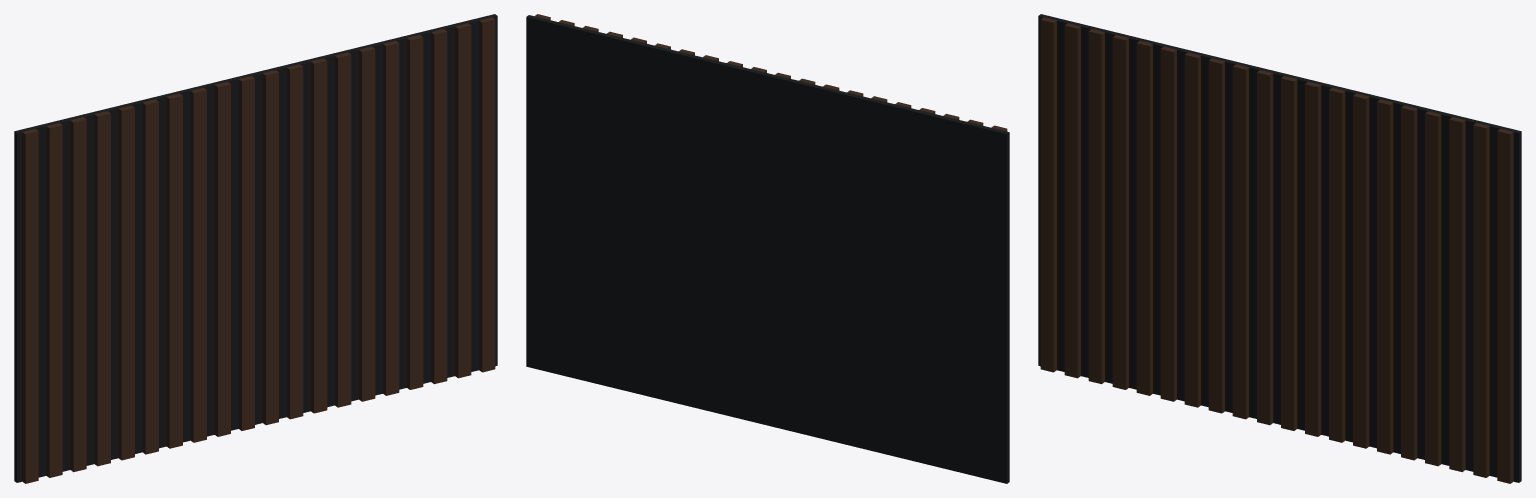
Rendered from wall_slats.glb.
The picture shows the model from 3 angles, left to right: view 1: azimuth 30°, elevation 25°; view 2: azimuth 150°, elevation 25°; view 3: azimuth 330°, elevation 25°; orthographic projection.
Parts seen in each view (by area): view 1: Fondo, Listón.006, Listón.002, Listón.005, Listón.013, Listón.014, Listón.010, Listón.003, Listón.007, Listón.008, Listón.012, Listón.015 (+9 smaller); view 2: Fondo; view 3: Fondo, Listón, Listón.013, Listón.003, Listón.005, Listón.007, Listón.011, Listón.018, Listón.002, Listón.006, Listón.009, Listón.014 (+9 smaller).
Boxes of the visible parts, x1=… form: Fondo: x1=14, y1=14, x2=497, y2=482; Listón.006: x1=166, y1=93, x2=182, y2=448; Listón.002: x1=70, y1=117, x2=86, y2=472; Listón.005: x1=142, y1=99, x2=158, y2=454; Listón.013: x1=335, y1=52, x2=351, y2=407; Listón.014: x1=359, y1=46, x2=375, y2=401; Listón.010: x1=262, y1=70, x2=278, y2=425; Listón.003: x1=94, y1=111, x2=110, y2=466; Listón.007: x1=190, y1=87, x2=206, y2=442; Listón.008: x1=214, y1=82, x2=230, y2=436; Listón.012: x1=311, y1=58, x2=327, y2=413; Listón.015: x1=383, y1=41, x2=399, y2=395; Fondo: x1=526, y1=15, x2=1009, y2=483; Fondo: x1=1038, y1=14, x2=1521, y2=482; Listón: x1=1040, y1=17, x2=1056, y2=372; Listón.013: x1=1353, y1=93, x2=1369, y2=448; Listón.003: x1=1112, y1=34, x2=1128, y2=389; Listón.005: x1=1160, y1=46, x2=1176, y2=401; Listón.007: x1=1208, y1=58, x2=1224, y2=413; Listón.011: x1=1305, y1=82, x2=1321, y2=436; Listón.018: x1=1473, y1=123, x2=1489, y2=477; Listón.002: x1=1088, y1=29, x2=1104, y2=384; Listón.006: x1=1184, y1=52, x2=1200, y2=407; Listón.009: x1=1257, y1=70, x2=1273, y2=425; Listón.014: x1=1377, y1=99, x2=1393, y2=454.
Size of the model in its own units: 4 by 2.78 by 0.085.
